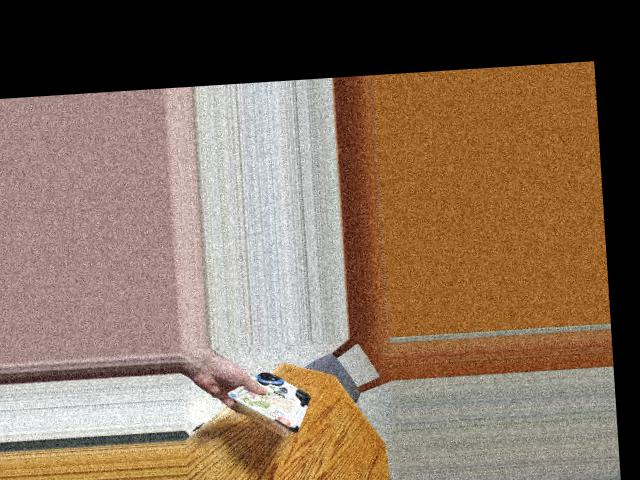cheese: (232, 367, 319, 453)
